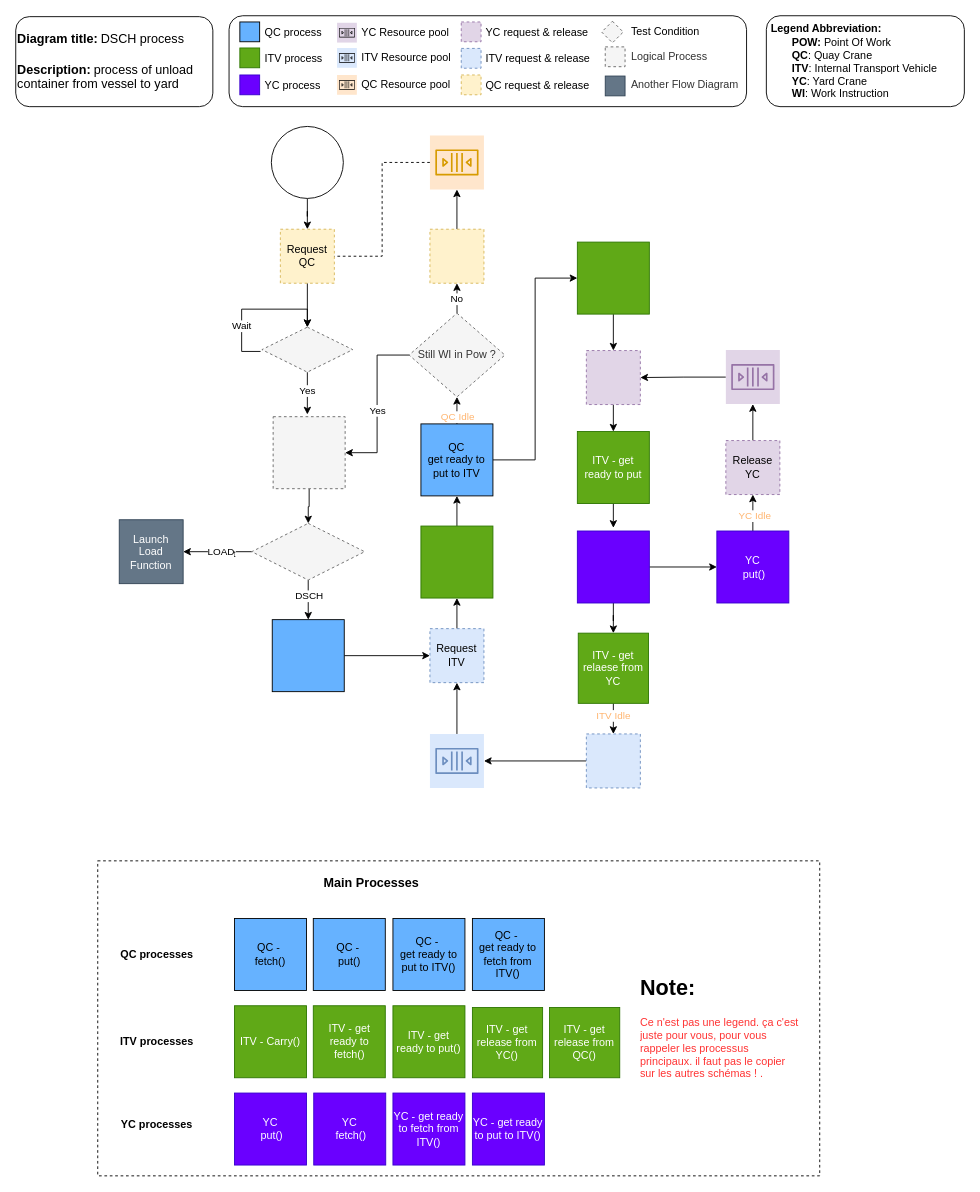
Some shapes in this 980 by 1192 pixel diagram are drawn without their labels. Here are the shapes that lost their labels. From the top down, the centre of each, then its label:
(x=306, y=162): Start POW_ID
(x=456, y=162): QC Pool IDLE
(x=456, y=255): Release QC
(x=612, y=277): ITV - Carry
(x=307, y=349): start work ?
(x=612, y=377): Request YC
(x=752, y=376): YC Pool IDLE
(x=308, y=452): Select WI
(x=308, y=551): Move kind ?
(x=456, y=561): ITV - get ready to fetch
(x=612, y=566): YC - get ready to fetch from ITV
(x=307, y=655): QC fetch()
(x=456, y=760): ITV Pool IDLE
(x=612, y=760): Release ITV
